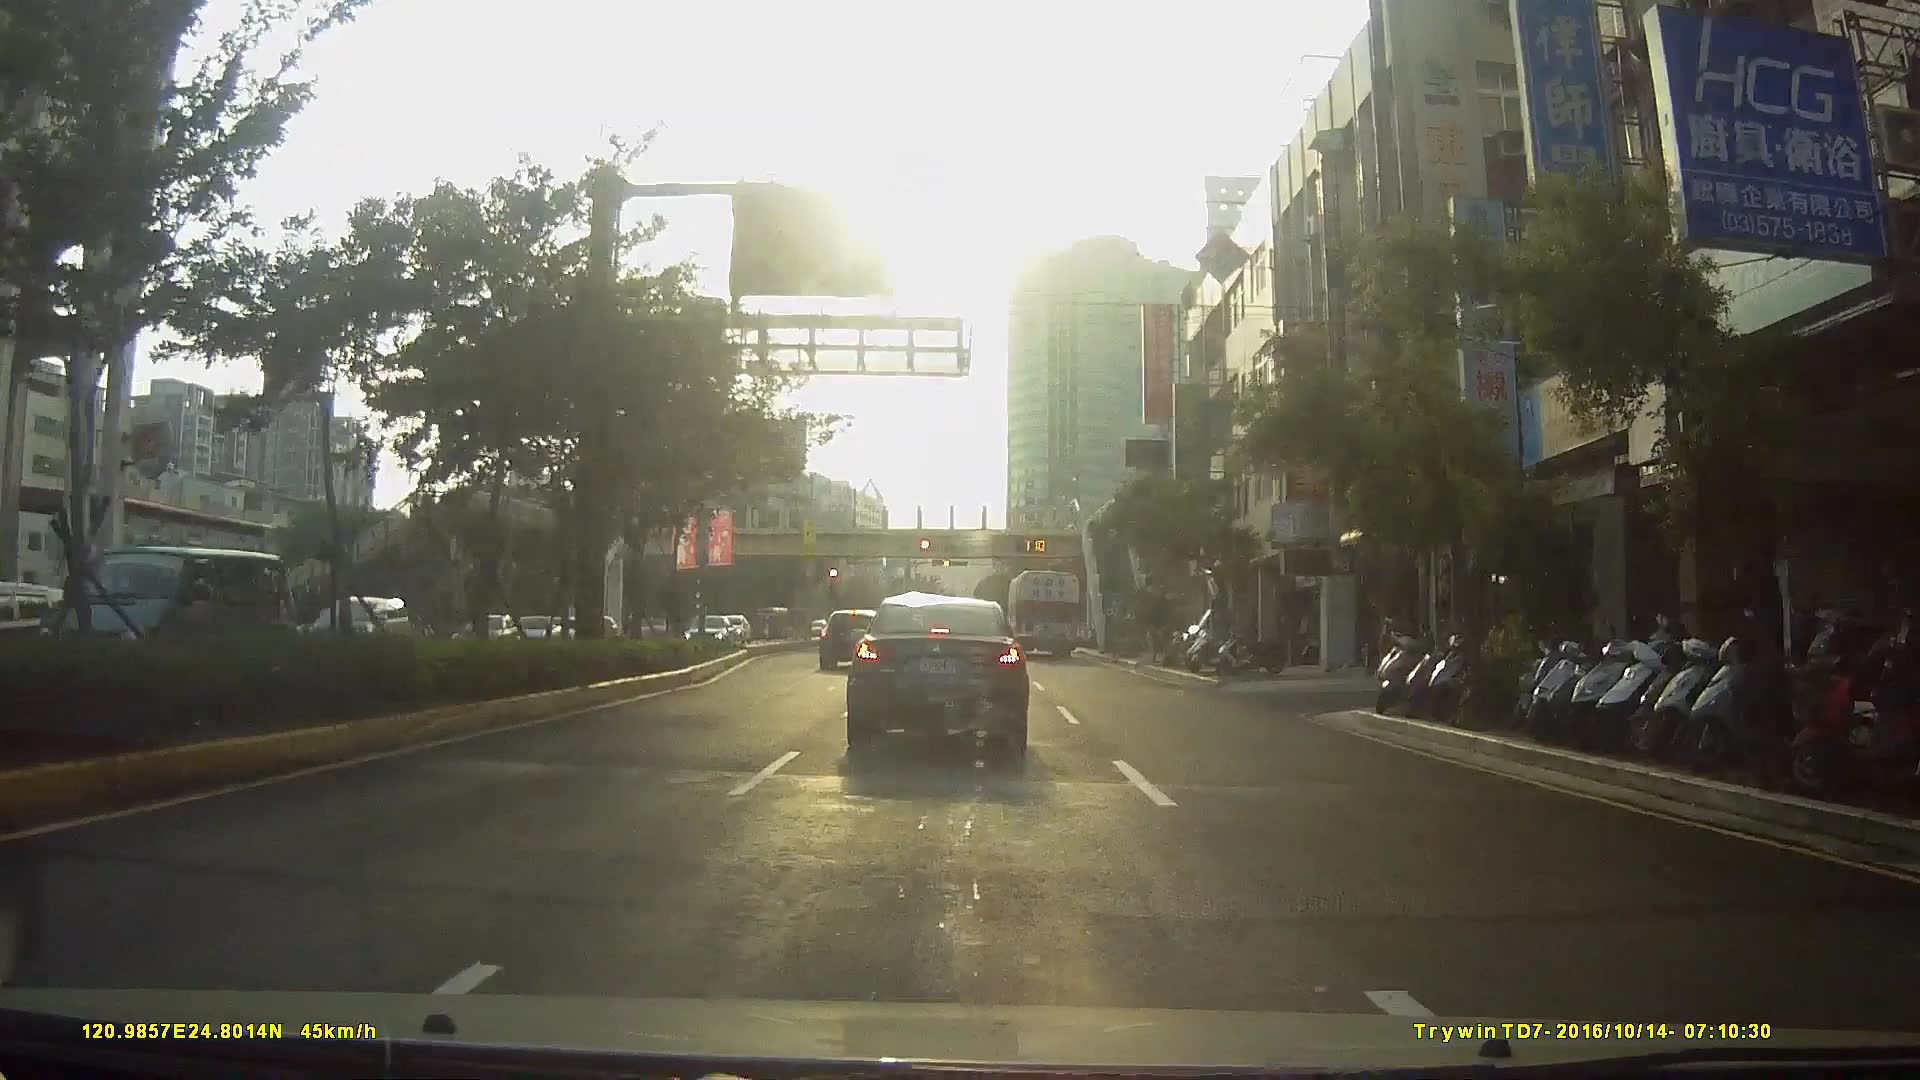vehicle: (18, 547, 268, 684), (844, 593, 1030, 757), (1005, 568, 1083, 662), (302, 595, 407, 659), (815, 607, 884, 674), (678, 615, 736, 653)
